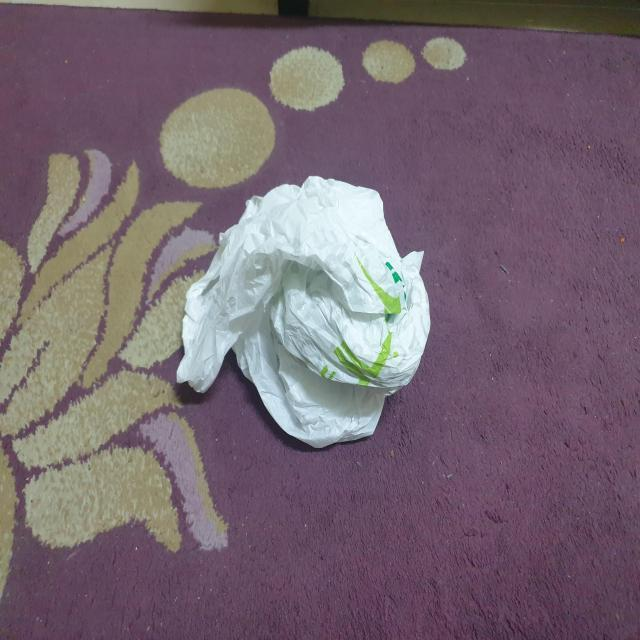plastic bag: (172, 173, 432, 455)
